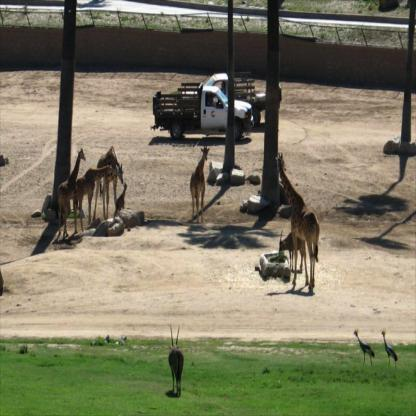Truck: (184, 74, 265, 126)
